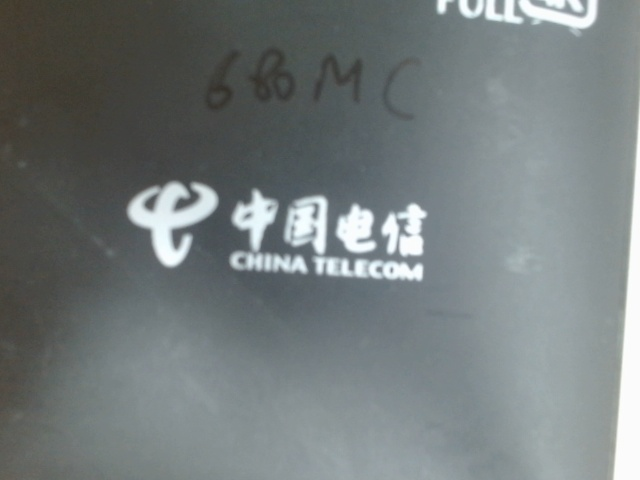AB_ChinaTelecom: (113, 166, 447, 291)
